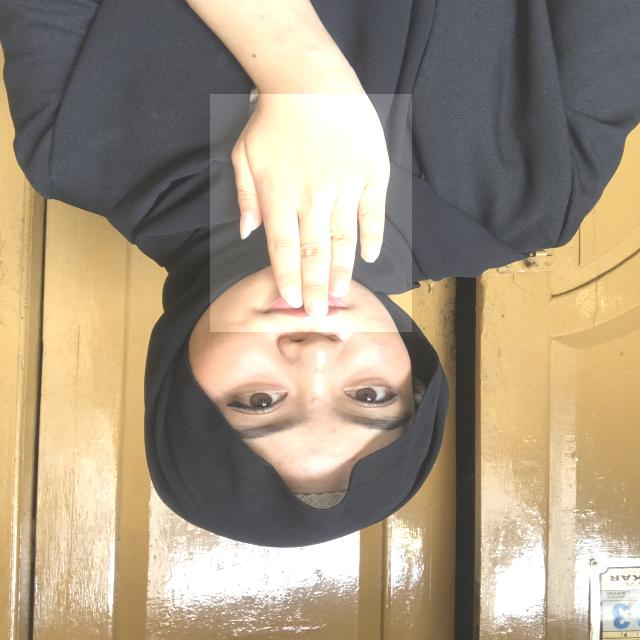ganteng: (210, 94, 412, 332)
